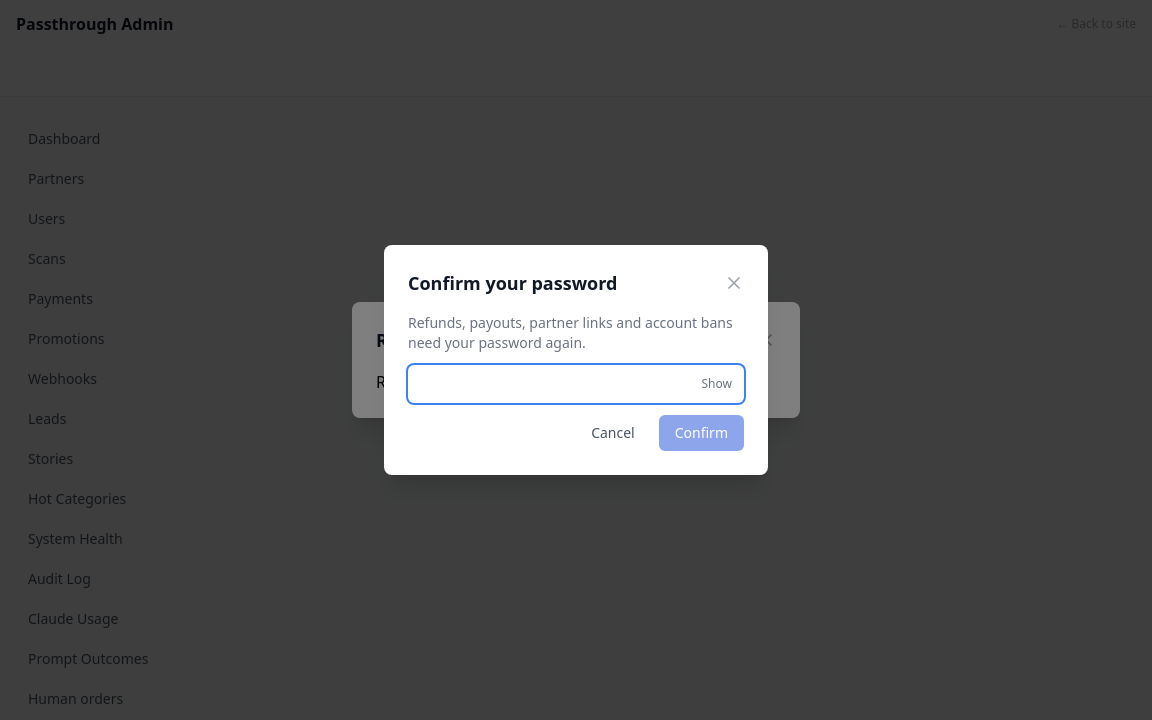
Test case: admin step-up prompt (B1: it rendered underneath the refund/ban dialog that asked for it) › opens as the shared Modal ABOVE an already-open dialog, takes focus, and the replayed request carries the elevation
Type "hunter2" into the password field named "Password". click: (576, 384)
box: [408, 365, 744, 403]
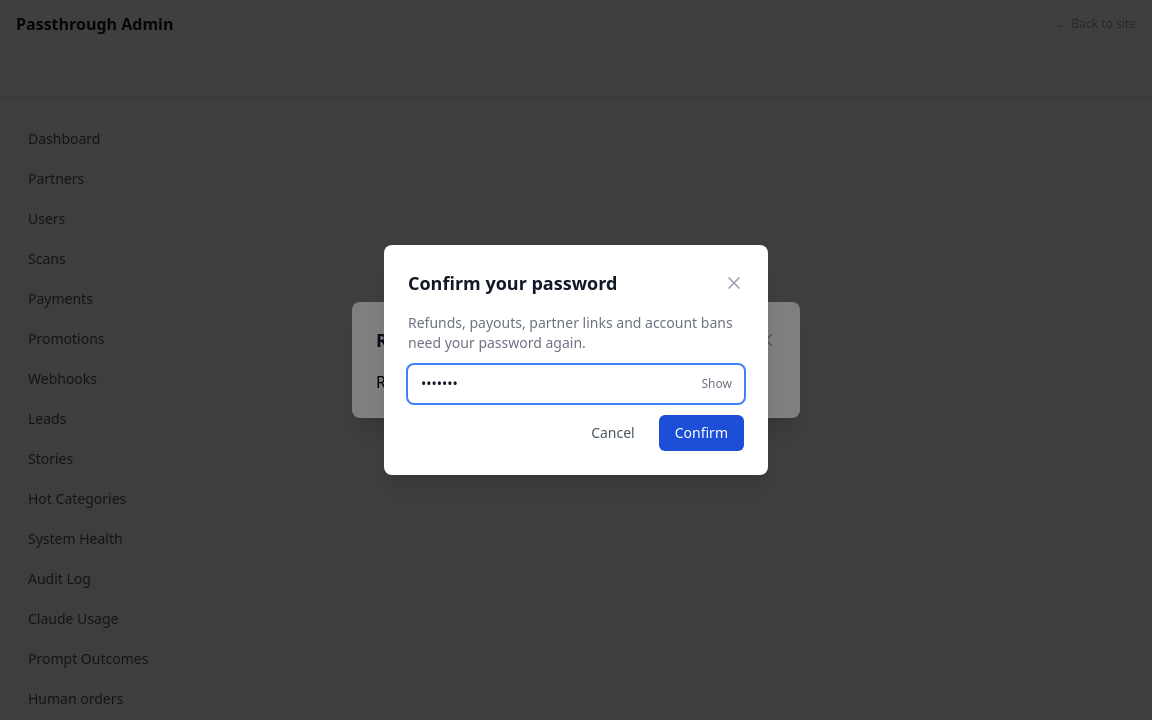
Click the button "Confirm". click: click(701, 433)
box: [659, 415, 744, 451]
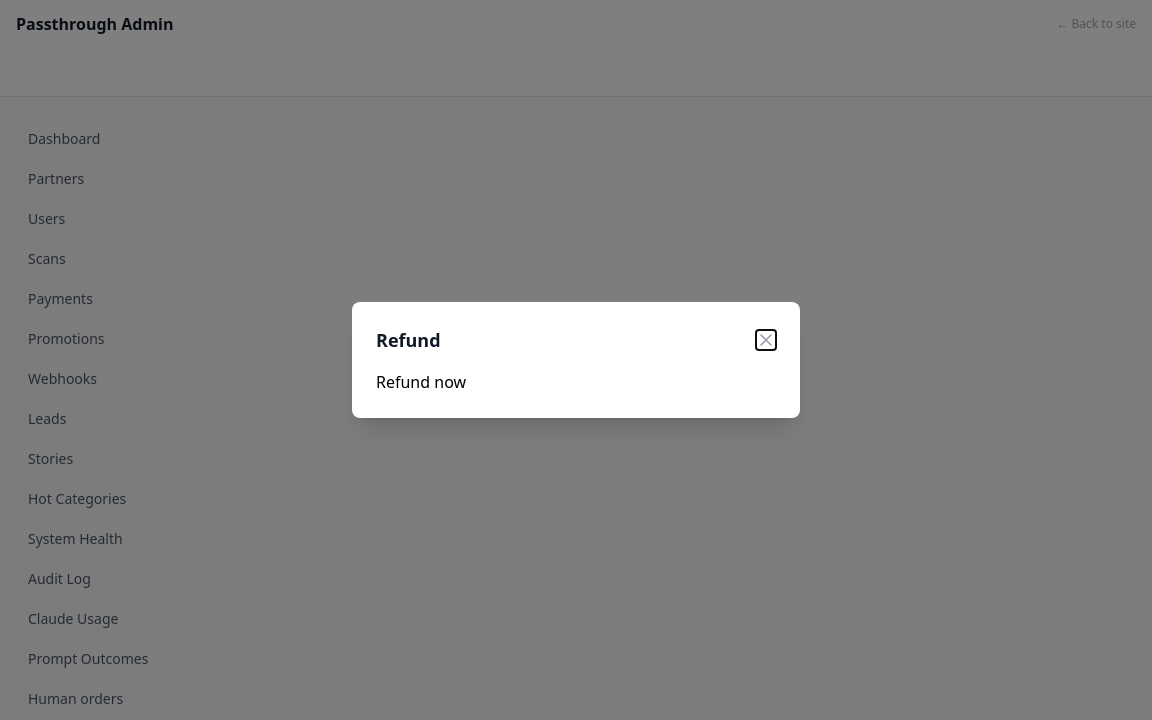
Now the heading "Confirm your password" is gone
